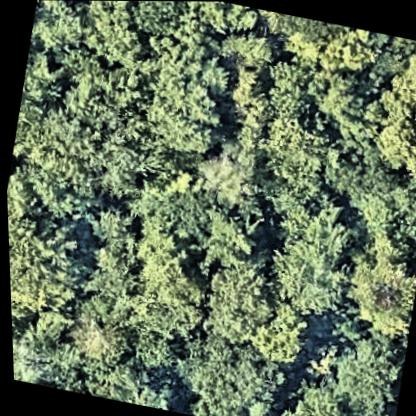tree-top: (43, 64, 167, 193), (132, 34, 238, 162), (260, 195, 364, 325), (6, 205, 97, 322), (312, 313, 408, 416), (192, 242, 280, 354), (169, 329, 282, 415), (330, 238, 416, 344), (76, 207, 152, 326), (118, 222, 201, 309), (251, 102, 337, 183), (318, 136, 407, 213), (368, 39, 416, 179), (9, 306, 87, 391), (69, 0, 157, 73), (81, 351, 176, 411), (185, 199, 256, 276), (242, 299, 316, 368), (193, 138, 261, 211), (26, 0, 101, 64), (140, 181, 214, 242), (306, 63, 372, 126), (258, 53, 319, 121), (214, 23, 288, 75), (267, 377, 360, 416), (123, 318, 184, 377), (316, 22, 380, 76), (187, 1, 263, 40), (124, 1, 193, 43), (63, 314, 117, 360), (349, 407, 392, 416)
